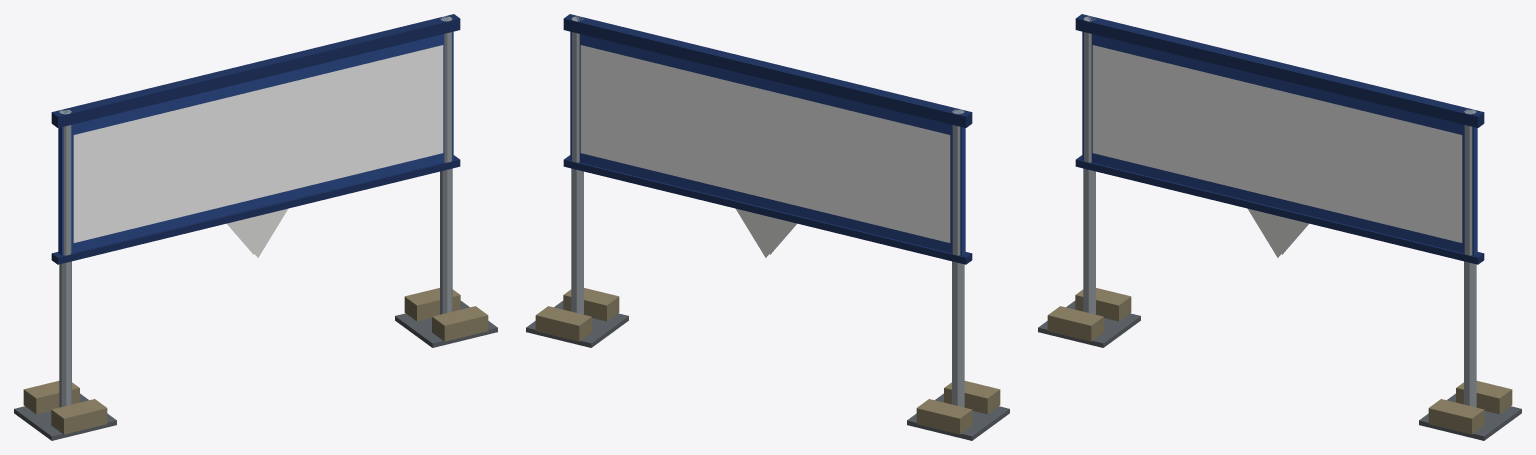
File: holeshot_board.glb
The picture shows the model from 3 angles, left to right: view 1: azimuth 30°, elevation 25°; view 2: azimuth 150°, elevation 25°; view 3: azimuth 330°, elevation 25°; orthographic projection.
Visible parts, largest first — view 1: Words, Board; view 2: Words, Board; view 3: Words, Board.
Boxes of the visible parts, <box> form: Words: <box>73,45,443,242</box>; Board: <box>14,14,497,440</box>; Words: <box>580,45,950,242</box>; Board: <box>526,14,1009,440</box>; Words: <box>1092,45,1462,242</box>; Board: <box>1038,14,1521,440</box>.
Size of the model in its own units: 4.1 by 2.7 by 0.64.
